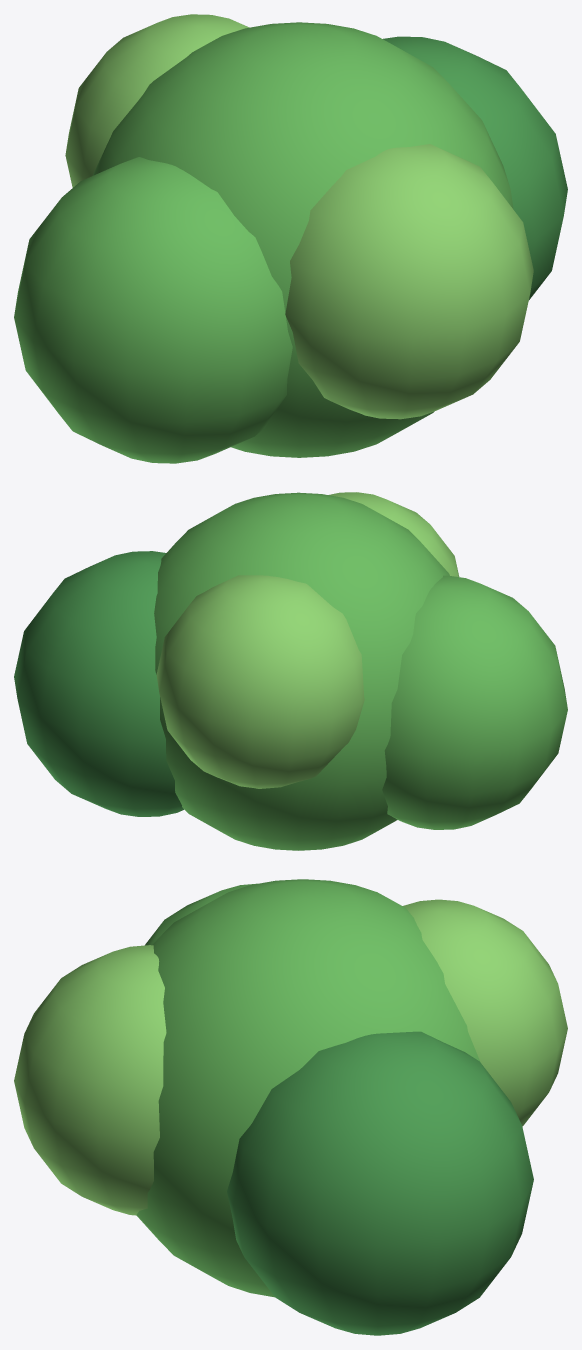
The model's file is bush_big.glb.
3 renders of one model, top to bottom at view 1: azimuth 30°, elevation 25°; view 2: azimuth 150°, elevation 25°; view 3: azimuth 270°, elevation 25°, orthographic. The views are drawn at different scales.
Parts seen in each view (by area): view 1: bush_big; view 2: bush_big; view 3: bush_big.
Part boxes in pixels (x1,y1,x2,y2): bush_big: [14, 14, 567, 463]; bush_big: [14, 492, 567, 850]; bush_big: [14, 879, 567, 1335].
Size of the model in its own units: 1.88 by 1.24 by 1.63.
